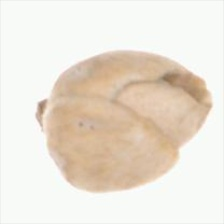L3: (111, 63, 214, 154)
L4: (34, 49, 214, 192)
